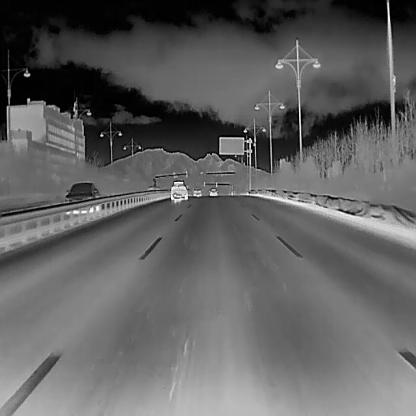car: (64, 180, 100, 206), (168, 180, 188, 200), (192, 186, 201, 197), (208, 186, 217, 196)
